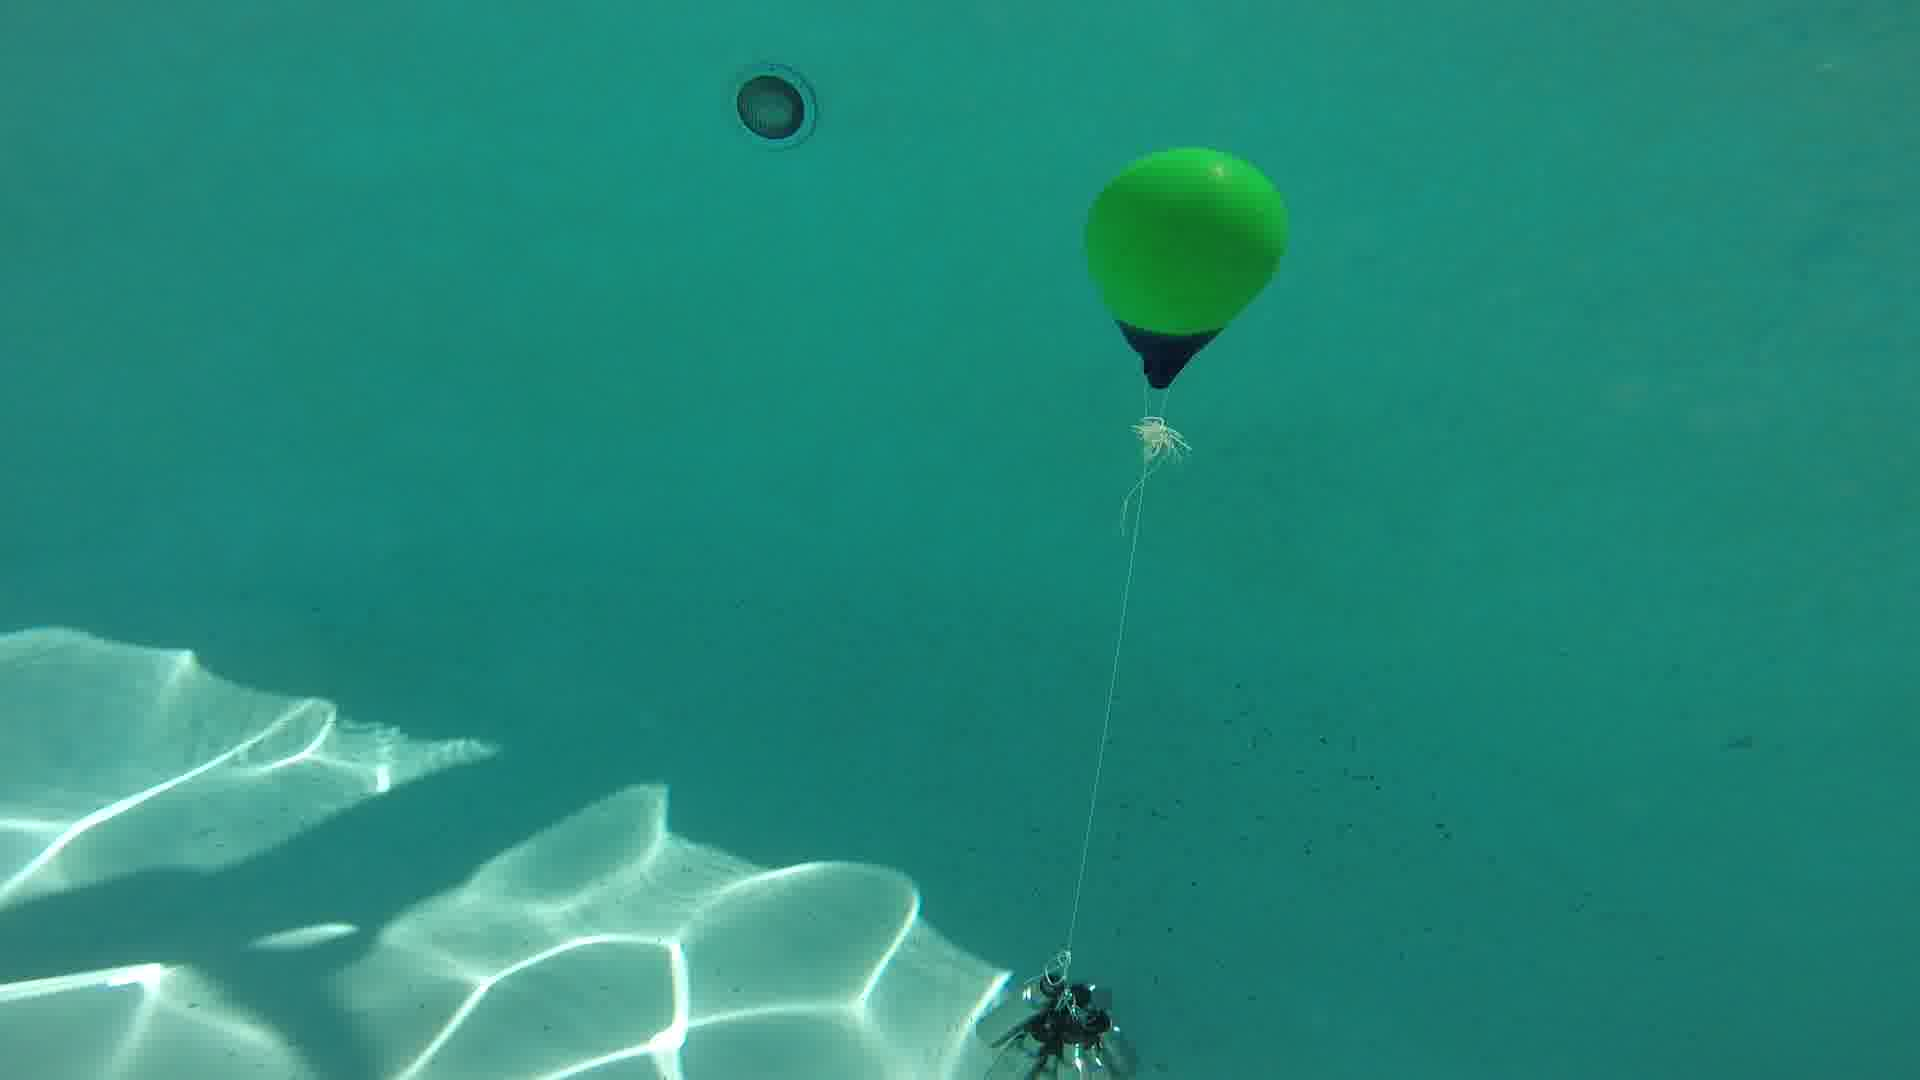yellow_buoy: (1083, 144, 1288, 392)
